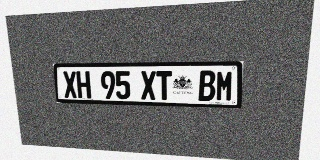5: (115, 71, 131, 99)
9: (101, 71, 116, 99)
B: (198, 70, 216, 101)
H: (76, 71, 91, 98)
M: (216, 70, 234, 101)
T: (156, 71, 172, 100)
X: (140, 71, 156, 100), (62, 71, 78, 98)
